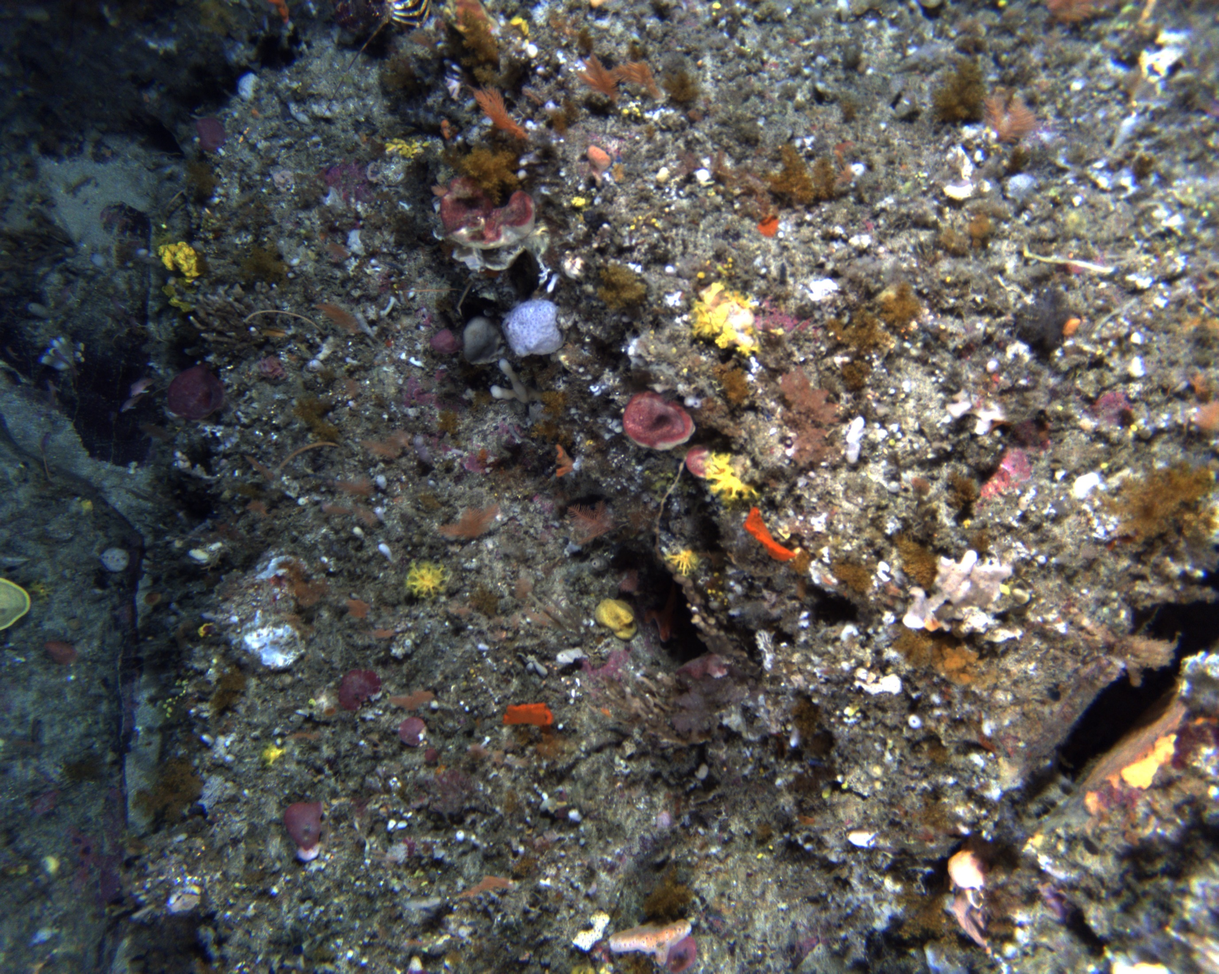Brachionichthyidae: (641, 589, 686, 645)
